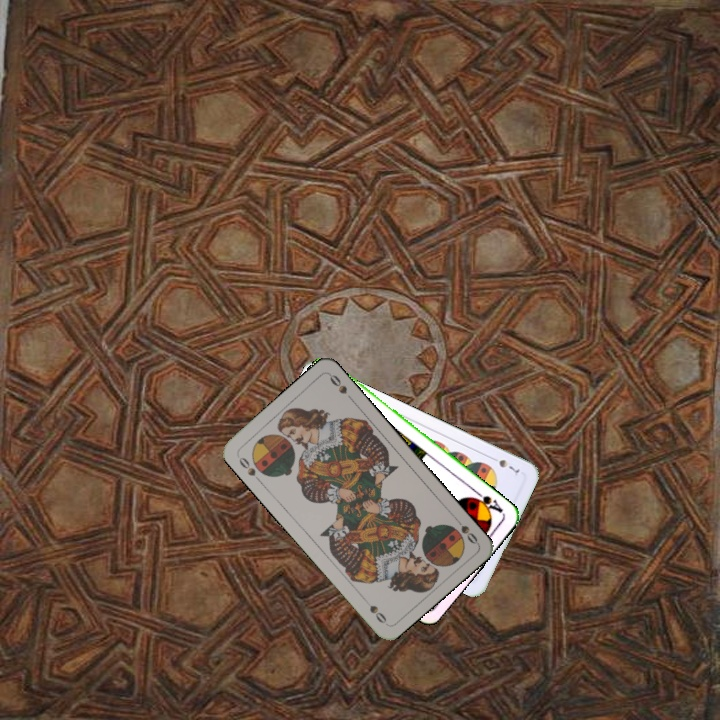S7: (486, 452, 522, 476)
SA: (467, 487, 506, 516)
SO: (450, 512, 481, 547), (233, 451, 264, 485)
